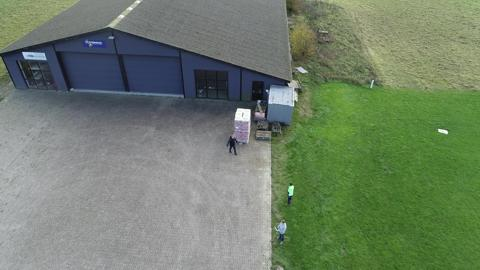RockwoolPallet: (231, 107, 252, 142)
